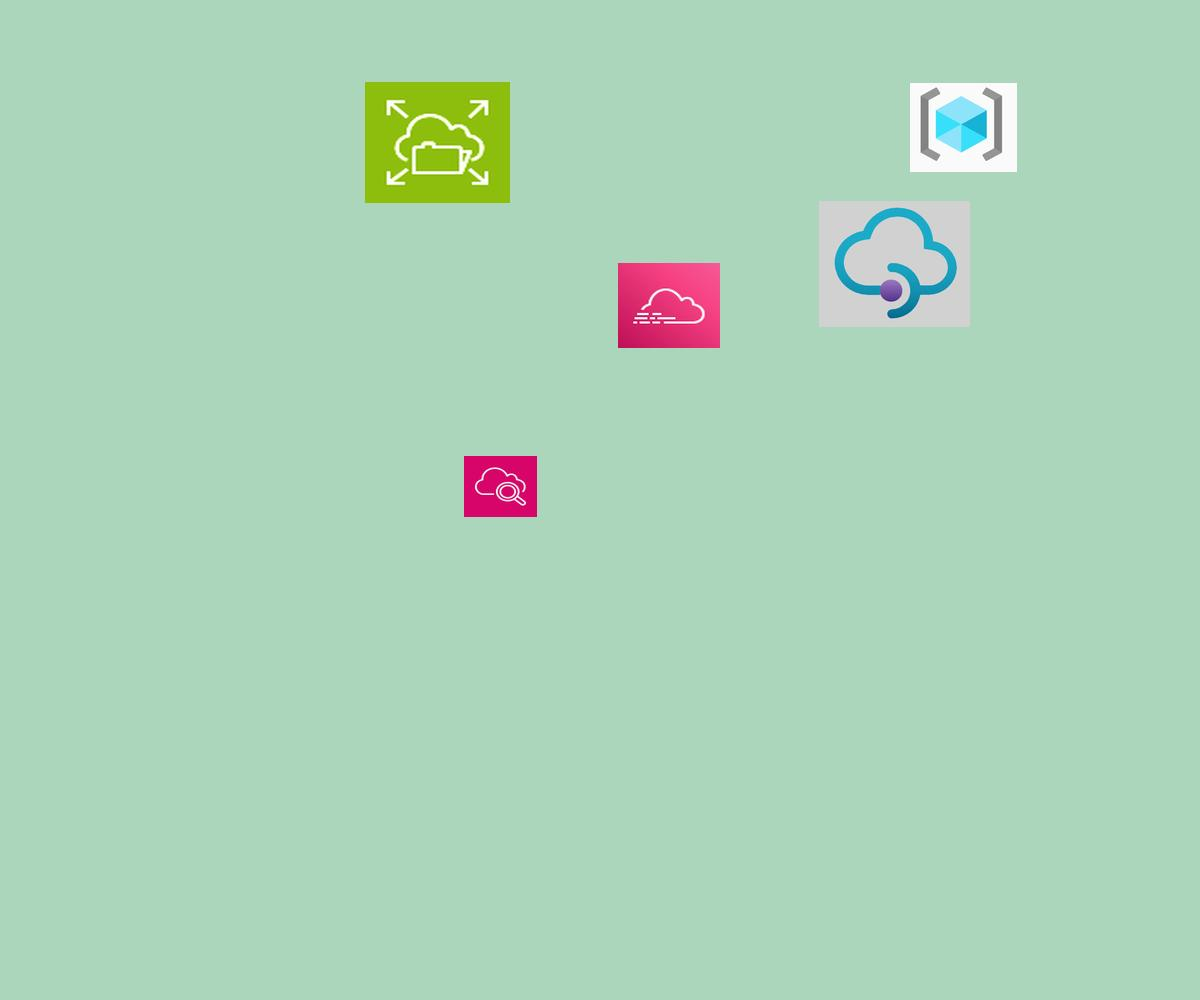AWS-CloudTrail: (618, 263, 720, 348)
AWS-CloudWatch: (464, 456, 537, 517)
AWS-EFS: (365, 82, 510, 203)
Azure_api_gateway: (819, 201, 970, 327)
Azure_resource_group: (910, 83, 1017, 172)
